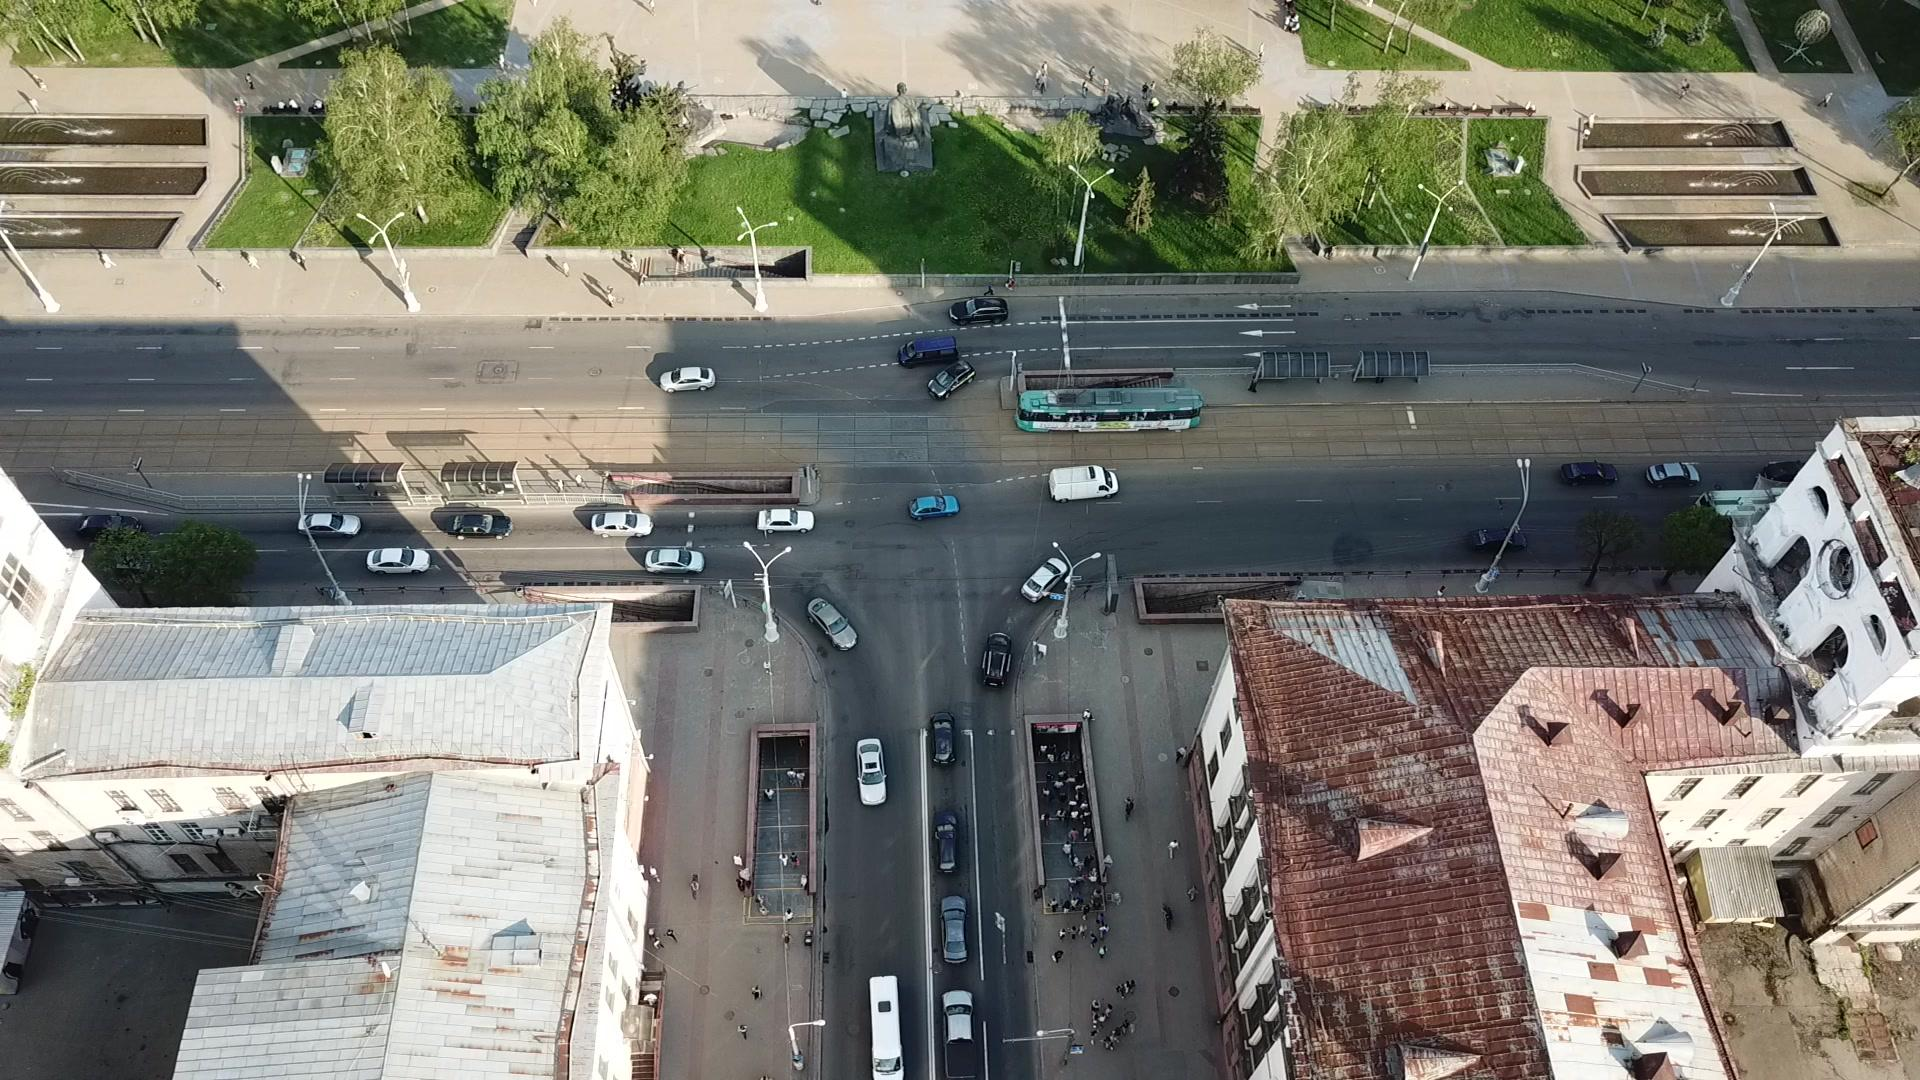car: (804, 596, 858, 651), (942, 990, 976, 1073), (1019, 556, 1068, 603), (855, 737, 887, 804), (927, 359, 977, 400), (978, 632, 1013, 688), (443, 513, 514, 539), (940, 894, 967, 965), (367, 546, 431, 575), (948, 295, 1009, 324), (589, 512, 654, 538), (932, 810, 959, 874), (645, 547, 705, 575), (756, 506, 815, 533), (1469, 526, 1528, 553), (295, 512, 360, 535), (659, 367, 717, 393), (1560, 462, 1618, 487), (930, 712, 957, 764), (907, 495, 960, 520), (1648, 462, 1700, 487)
